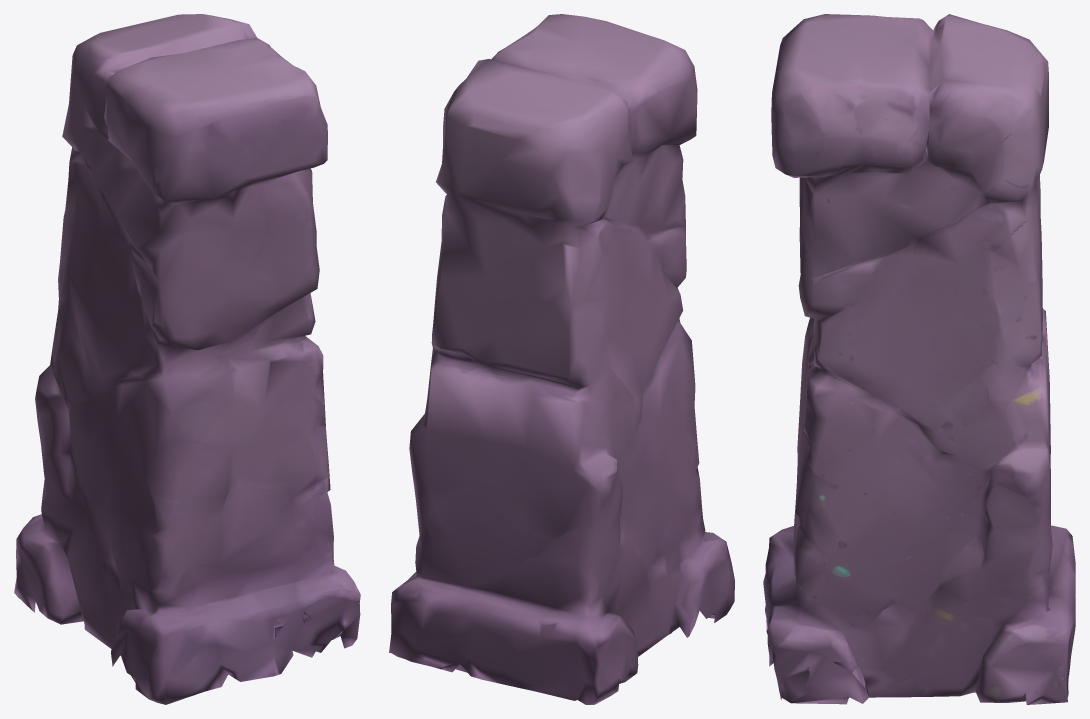
File: kaya_dik.glb
3 renders of one model, left to right at view 1: azimuth 30°, elevation 25°; view 2: azimuth 150°, elevation 25°; view 3: azimuth 270°, elevation 25°, orthographic. The views are drawn at different scales.
Visible parts, largest first — view 1: tripo_node_d32150ae-0ebe-4adc-a086-dc660bd8e3e1; view 2: tripo_node_d32150ae-0ebe-4adc-a086-dc660bd8e3e1; view 3: tripo_node_d32150ae-0ebe-4adc-a086-dc660bd8e3e1.
Boxes of the visible parts, x1,y1,x2,y2 form: tripo_node_d32150ae-0ebe-4adc-a086-dc660bd8e3e1: (14,14,360,704); tripo_node_d32150ae-0ebe-4adc-a086-dc660bd8e3e1: (389,14,734,704); tripo_node_d32150ae-0ebe-4adc-a086-dc660bd8e3e1: (763,14,1075,704).
Size of the model in its own units: 0.9519 by 2.4 by 1.11.
1 material, 1 textured.
